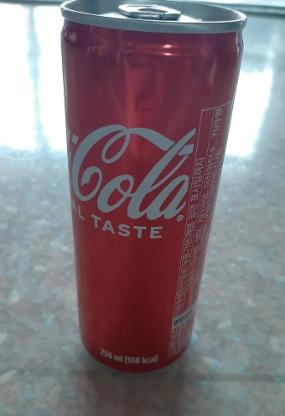Can: (60, 0, 248, 364)
